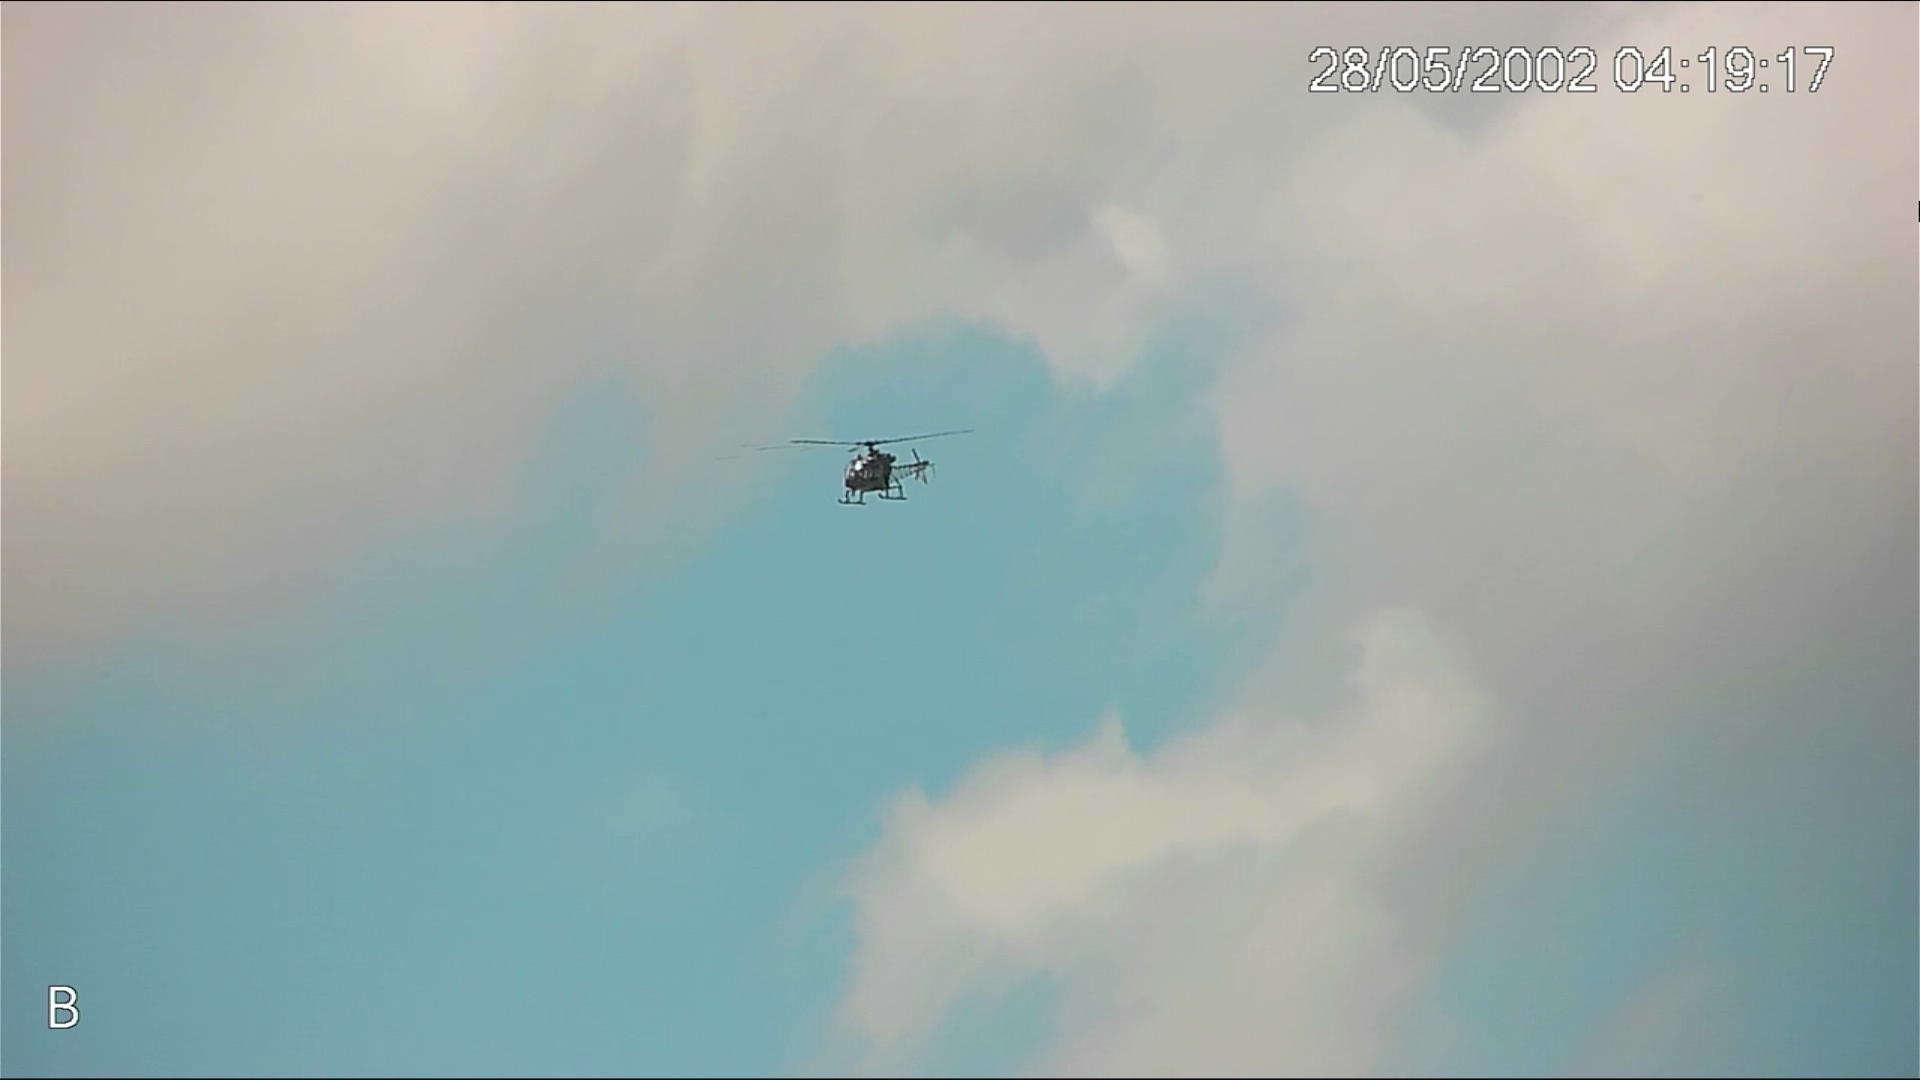SU_30: (828, 434, 945, 505)
